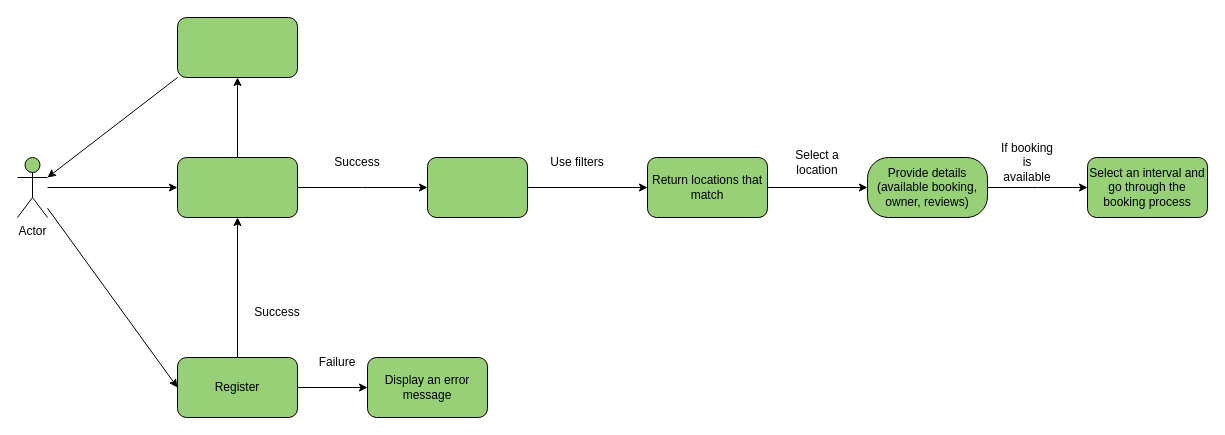
This 1225x435 diagram has some shape labels left out. The centre of each missing label's shape, as x and y in pixels:
"Home page" belongs at (477,187).
"Login" belongs at (237,187).
"Logout" belongs at (237,47).
